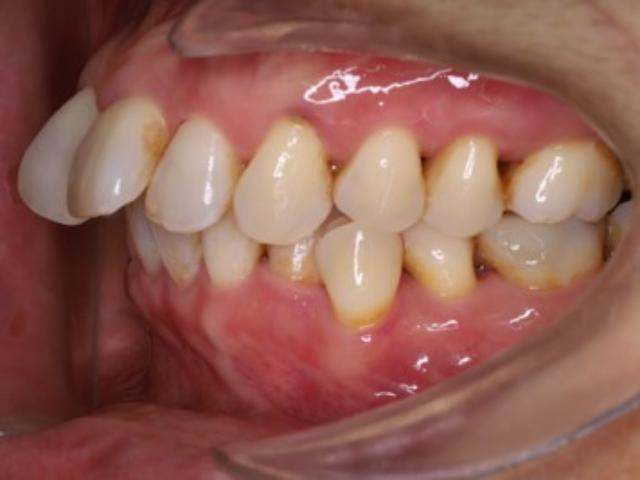canine class II full class: (233, 101, 401, 339)
molar class I: (477, 123, 628, 301)
